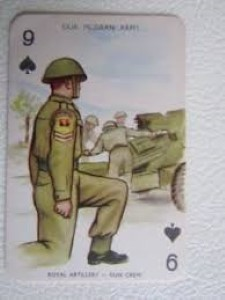NineOfSpades: (3, 12, 196, 283)
